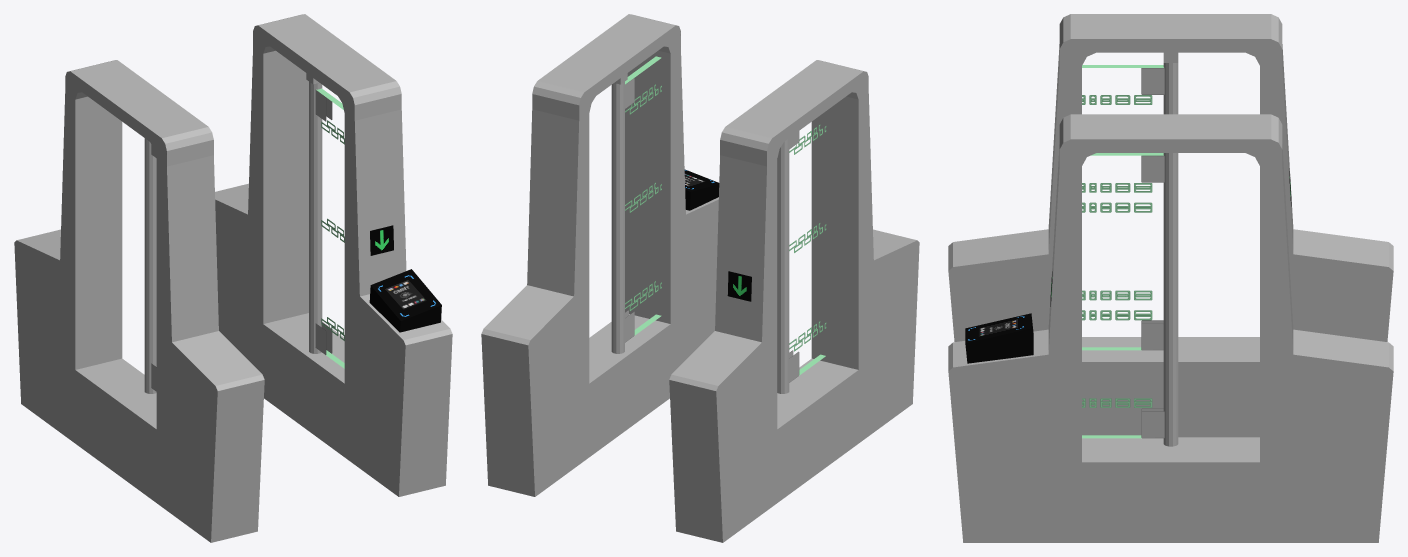
Rendered from nyc_subway_fare_gate_5_twoway_open_exit.obj.
3 views of the same model, side by side, from view 1: azimuth 30°, elevation 25°; view 2: azimuth 150°, elevation 25°; view 3: azimuth 270°, elevation 25° (orthographic). The views are drawn at different scales.
Parts seen in each view (by area): view 1: left, cube, right, doorLeft; view 2: left, cube, right, doorLeft; view 3: left, right, cube, doorLeft.
Boxes of the visible parts, <box> form: left: <box>14,46,452,542</box>; cube: <box>65,14,441,332</box>; right: <box>144,82,344,456</box>; doorLeft: <box>151,88,344,391</box>; left: <box>481,46,919,542</box>; cube: <box>532,14,868,301</box>; right: <box>589,82,789,456</box>; doorLeft: <box>625,56,826,382</box>; left: <box>948,44,1393,542</box>; right: <box>1082,63,1259,542</box>; cube: <box>965,14,1291,363</box>; doorLeft: <box>1082,65,1164,438</box>.
Size of the model in its own units: 1.25 by 1.88 by 1.88.
1 material, 1 textured.
